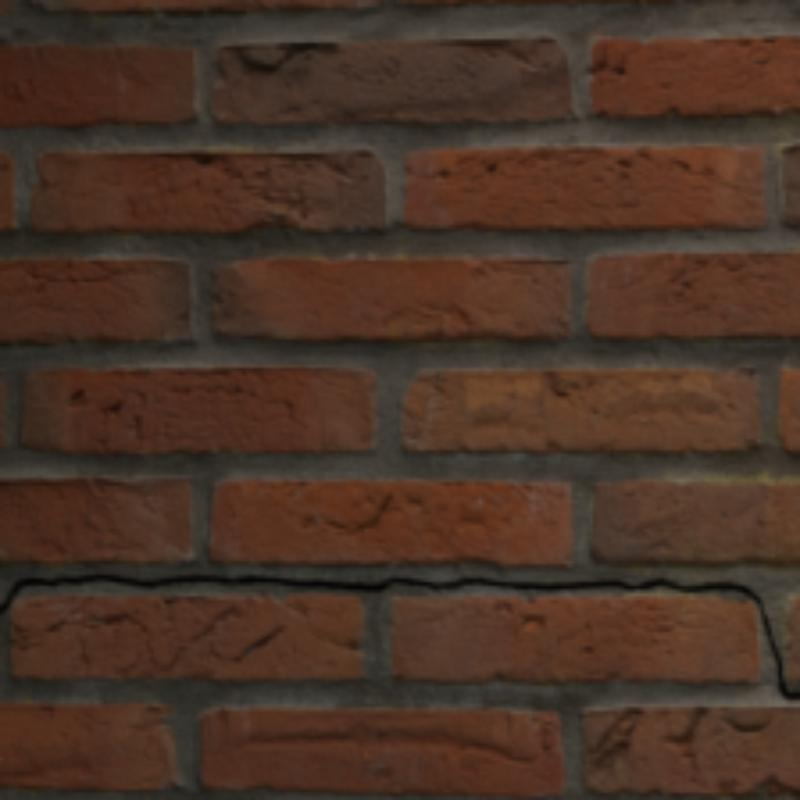crack: (0, 575, 123, 607), (175, 575, 393, 589), (675, 582, 759, 603), (393, 579, 539, 586), (761, 609, 779, 664), (779, 679, 796, 696), (643, 579, 675, 586), (123, 579, 175, 582)
